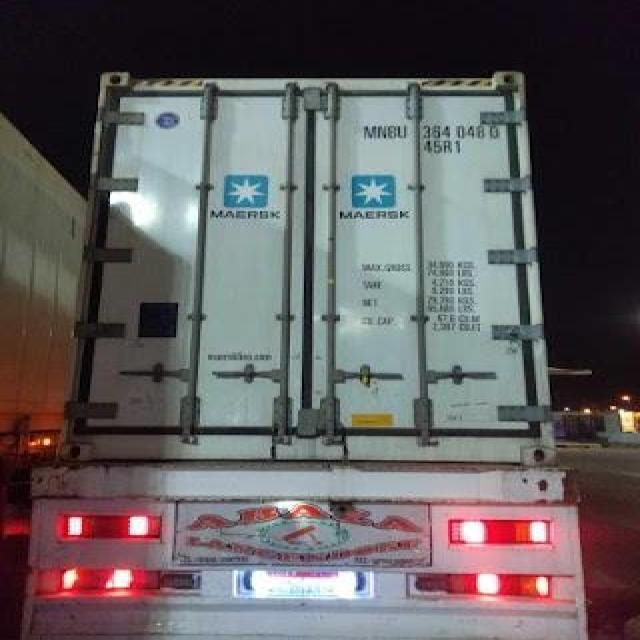ISO: (418, 139, 466, 159)
container_number: (364, 124, 499, 142)
